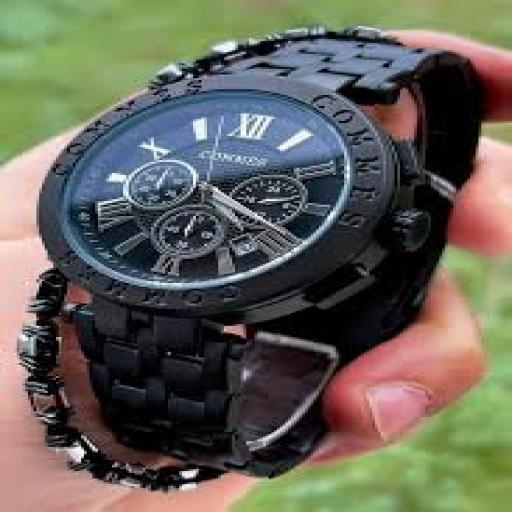KolSaati: (8, 5, 455, 472)
